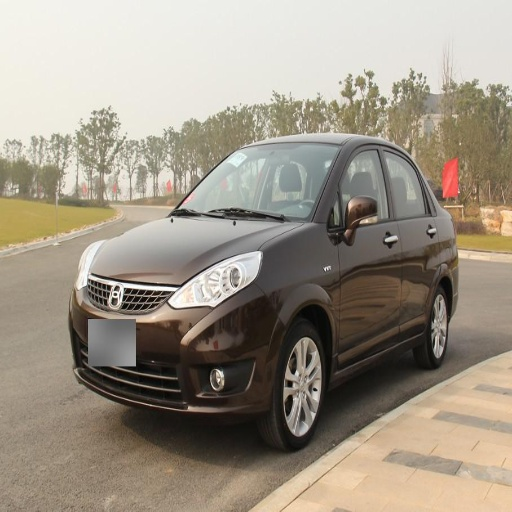front_bumper: (70, 269, 277, 415)
front_glass: (171, 144, 340, 218)
front_left_door: (331, 144, 401, 355)
